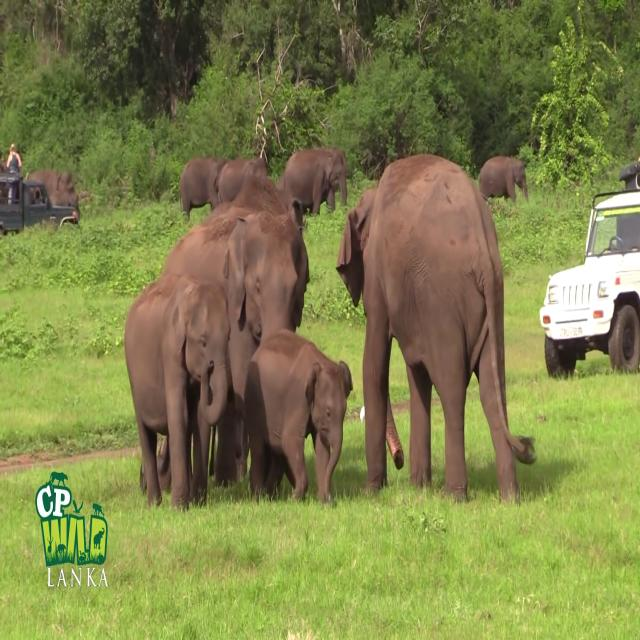Elephant: (336, 152, 536, 504), (160, 202, 310, 487), (124, 271, 230, 511), (243, 327, 353, 504), (283, 146, 347, 217), (477, 155, 529, 204)
person: (6, 142, 22, 203)
